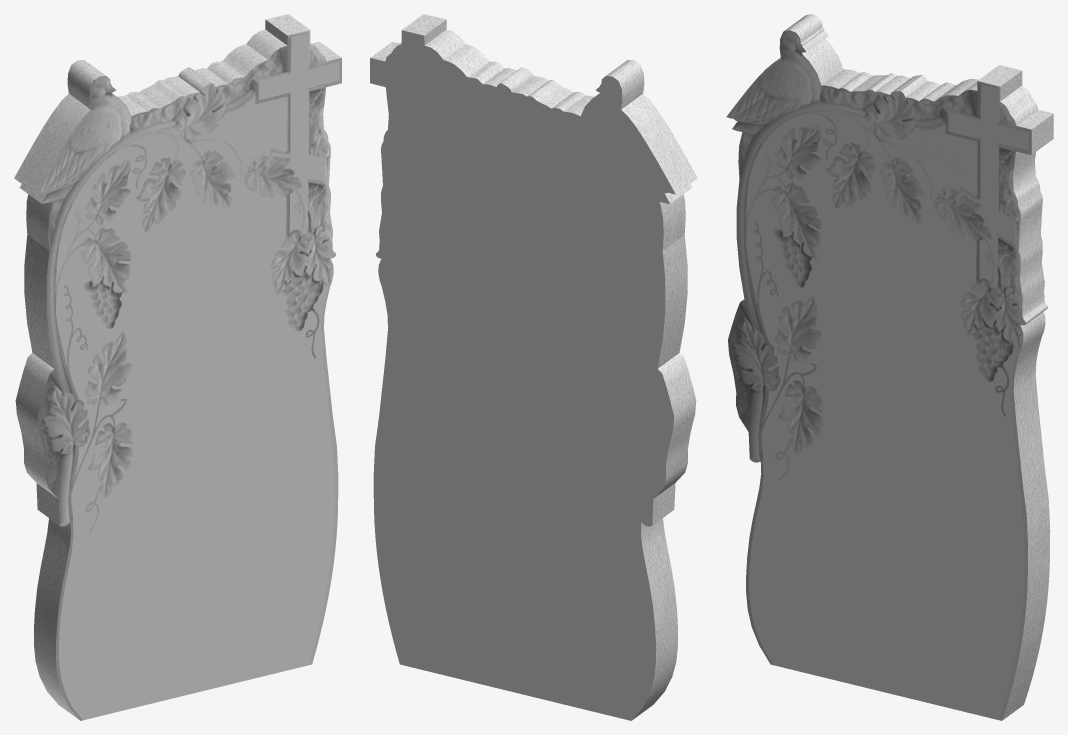
File: cn5029ecdff1_tkf.glb
The picture shows the model from 3 angles, left to right: view 1: azimuth 30°, elevation 25°; view 2: azimuth 150°, elevation 25°; view 3: azimuth 330°, elevation 25°; orthographic projection.
Visible parts, largest first — view 1: Pam-d03-074, Pam-d03-074_2_notexture; view 2: Pam-d03-074, Pam-d03-074_2_notexture; view 3: Pam-d03-074, Pam-d03-074_2_notexture.
Boxes of the visible parts, box(x1,y1,x2,y2) form: Pam-d03-074: box(56, 33, 339, 720); Pam-d03-074_2_notexture: box(14, 14, 341, 720); Pam-d03-074: box(370, 30, 675, 720); Pam-d03-074_2_notexture: box(370, 14, 697, 720); Pam-d03-074: box(746, 84, 1029, 719); Pam-d03-074_2_notexture: box(726, 14, 1053, 720).
Size of the model in its own units: 0.4 by 0.8 by 0.05.
Materials: 1 (1 with a texture image).
